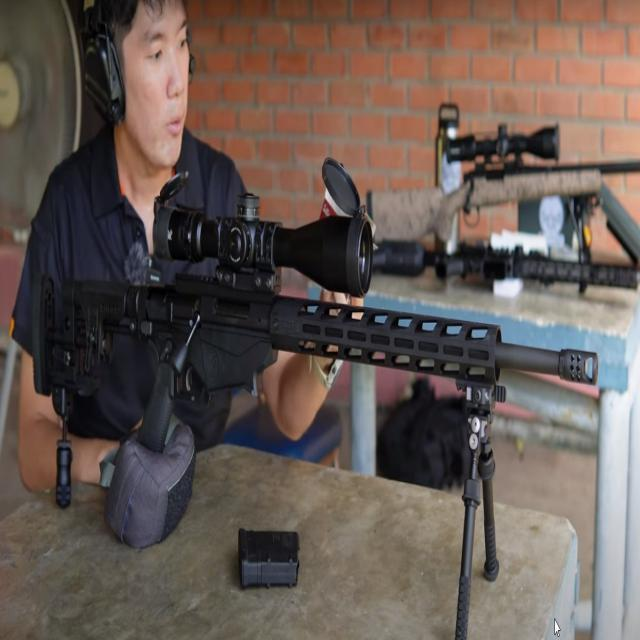rifle: (26, 152, 602, 636)
